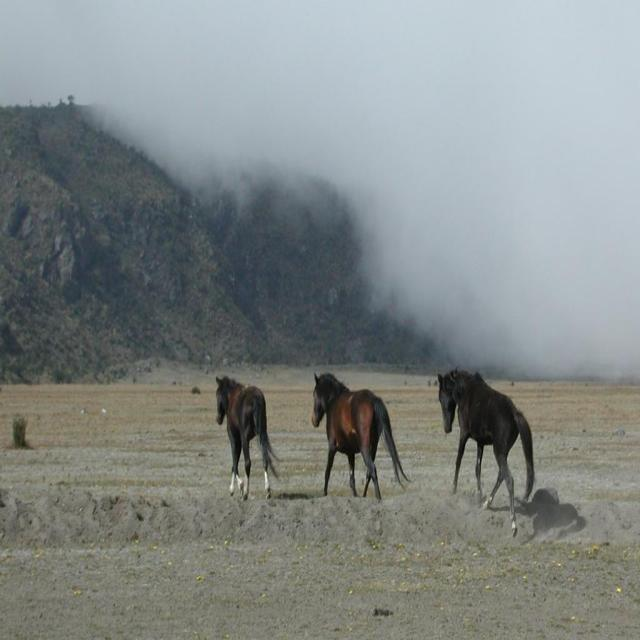Horse: (437, 363, 538, 538), (310, 367, 414, 499), (215, 372, 281, 499)
